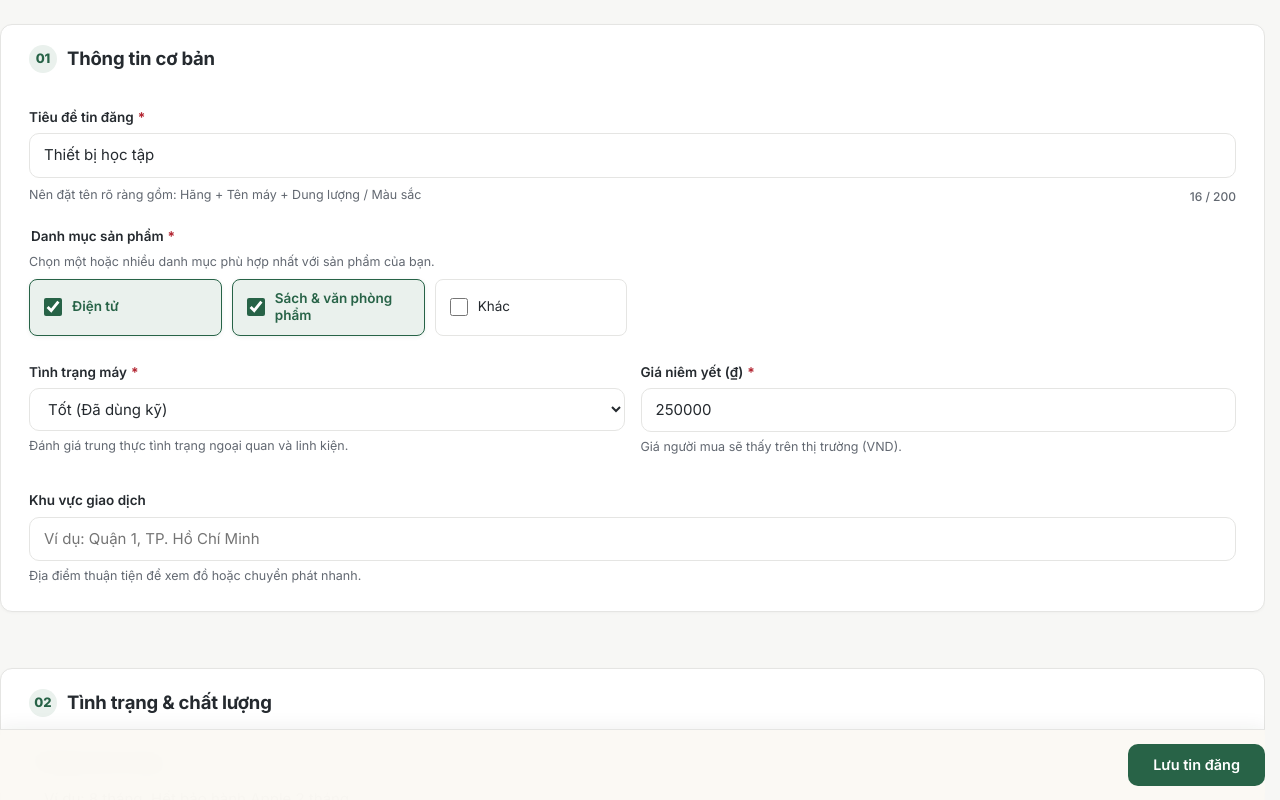
Test case: Multiple product categories › blocks saving after removing all categories
Click the checkbox labelled "Điện tử" at (53, 307), box [44, 298, 62, 316]
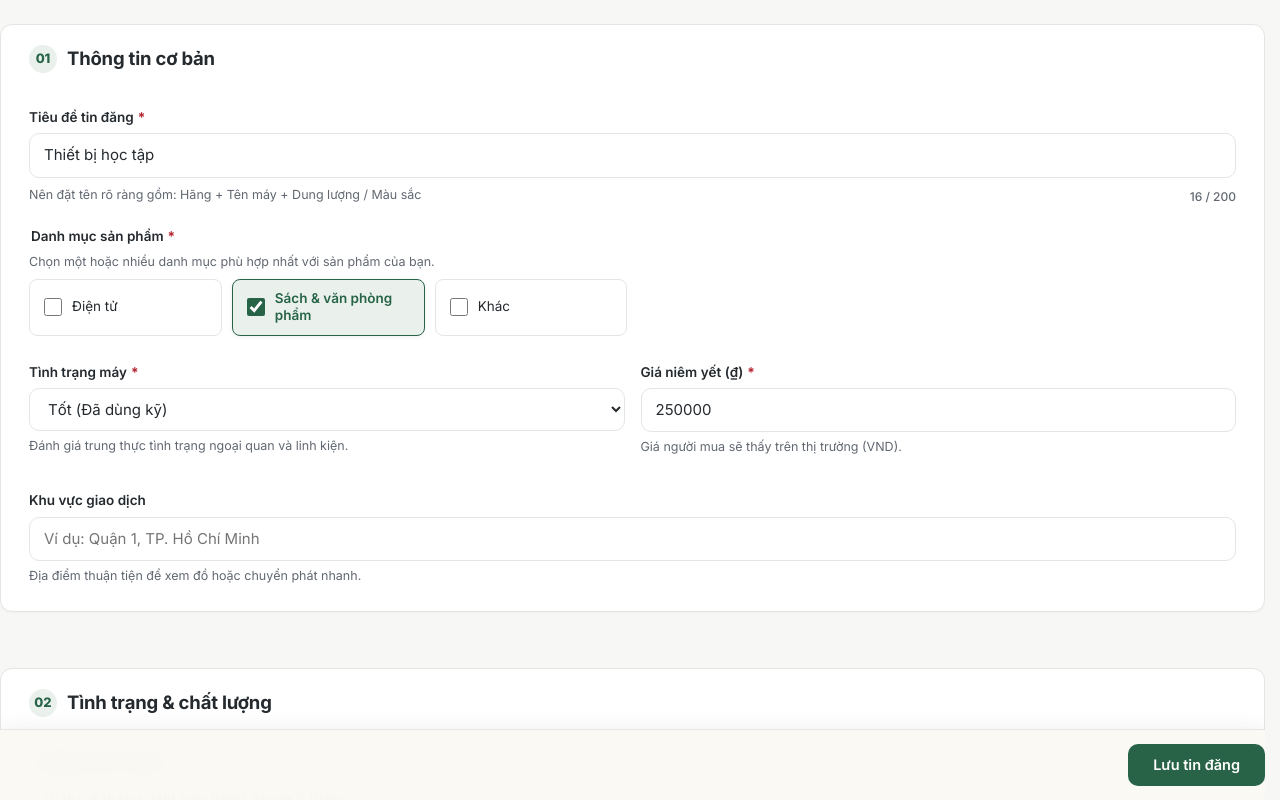
Click the checkbox labelled "Sách & văn phòng phẩm" at (256, 307), box [247, 298, 265, 316]
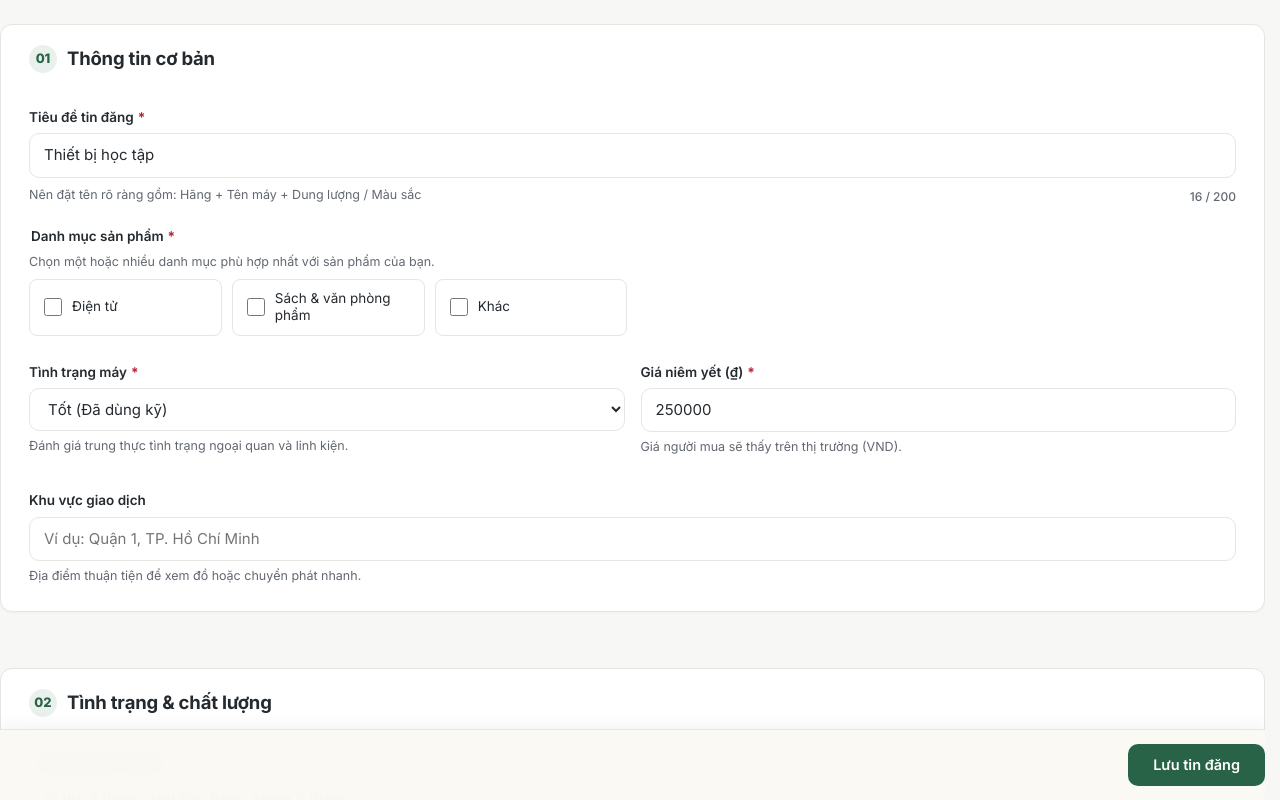
Click the button "Lưu tin đăng" at (1197, 765), box [1128, 744, 1265, 786]
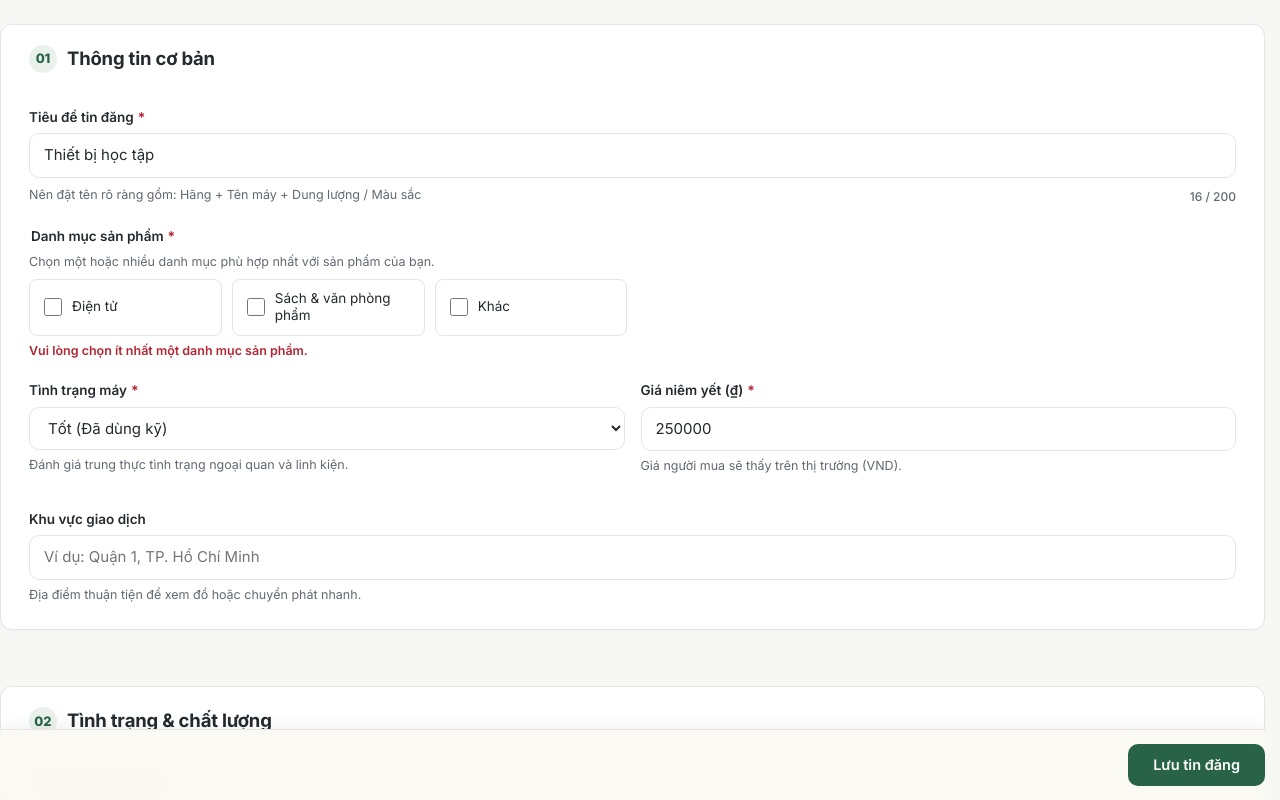
Expected: the message reads "Vui lòng chọn ít nhất một danh mục sản phẩm.", [29, 343, 308, 358]
